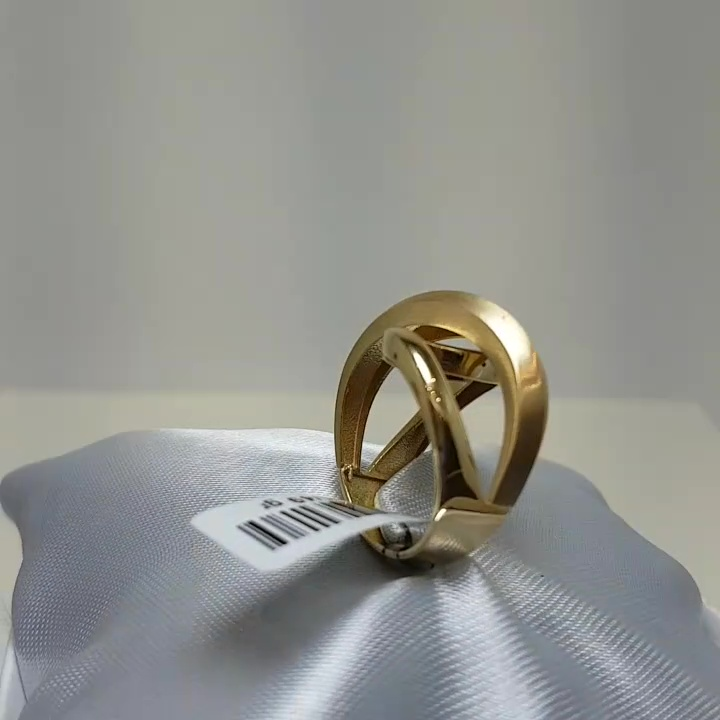Ring 3: (307, 252, 578, 589)
